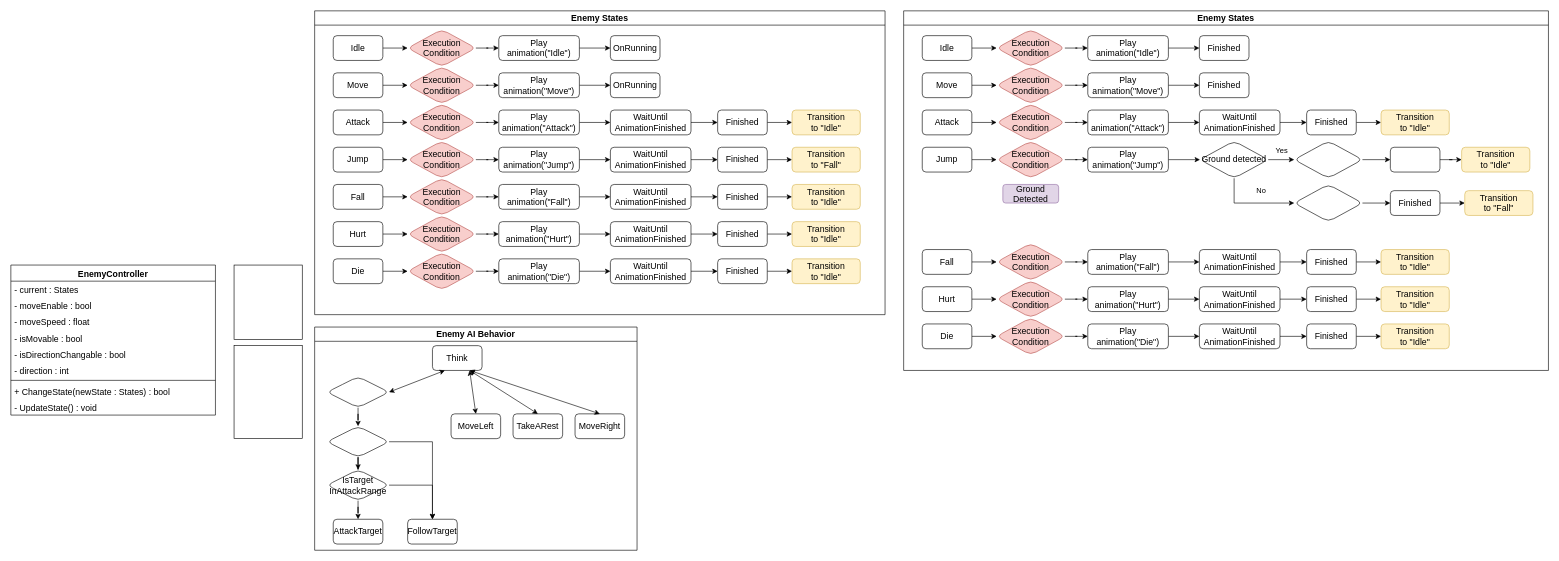
This 1559x561 diagram has some shape labels left out. The shapes that lost their labels are listed below. From the top down, each one's centre as x and y in pixels, then its label:
At (1328,159): "Animation Finished".
At (1415,159): "Error".
At (1328,203): "Y velocity < 0 ?".
At (267,301): "«States» Idle Move Attack Hurt Die".
At (267,392): "«AIStates» Think TakeARest MoveLeft MoveRight FollowTarget AttackTarget".
At (357,392): "IsTarget Detected".
At (357,441): "IsAttackable".
